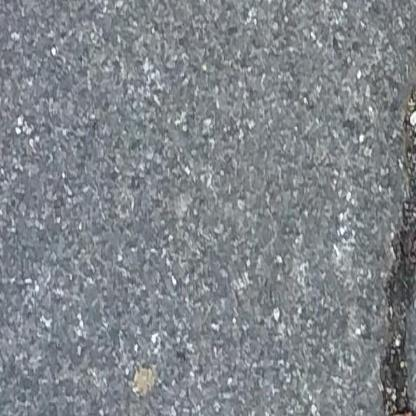Cracks: (377, 0, 416, 416)
